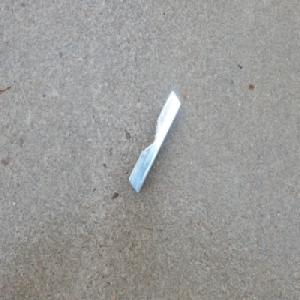ClampPart: (128, 88, 181, 193)
